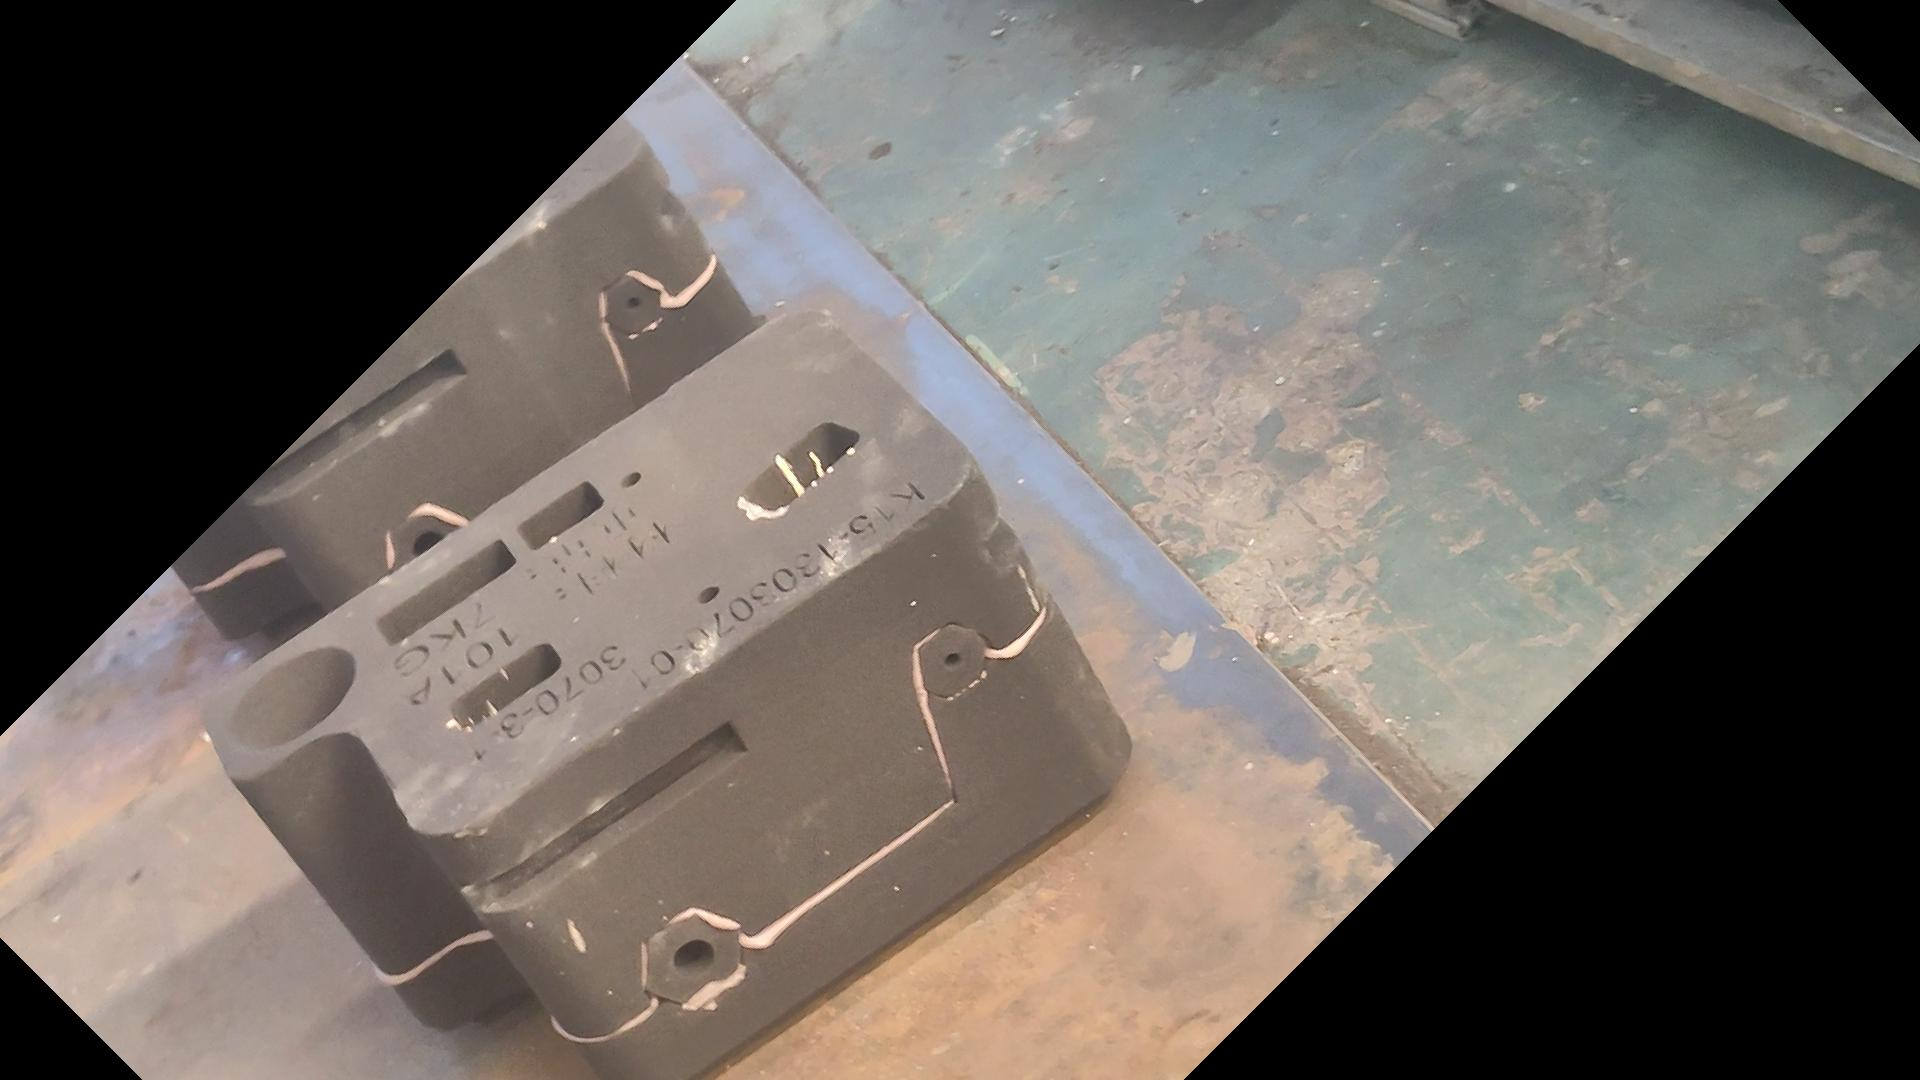pouring hole: (224, 646, 357, 750)
